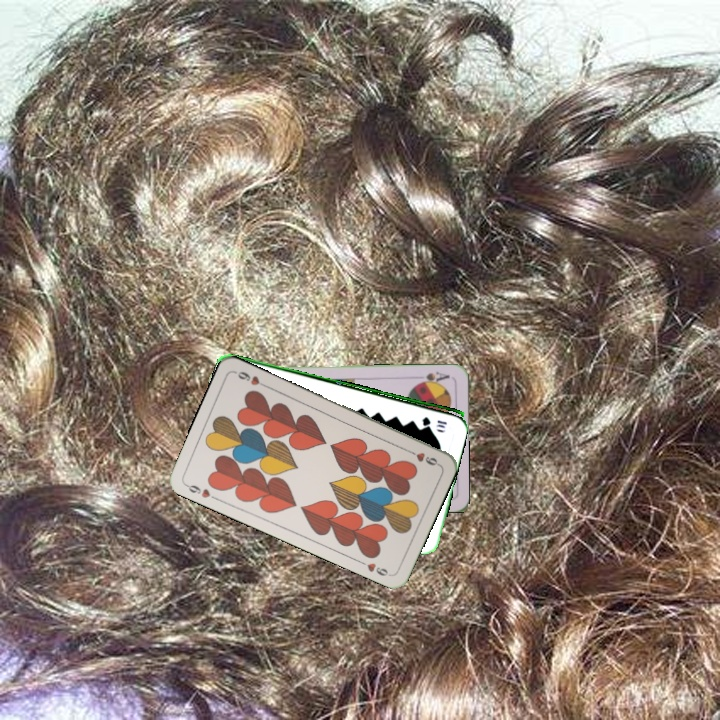G10: (418, 413, 449, 431)
H9: (182, 480, 220, 503), (403, 446, 442, 468)
SA: (412, 368, 452, 387)
